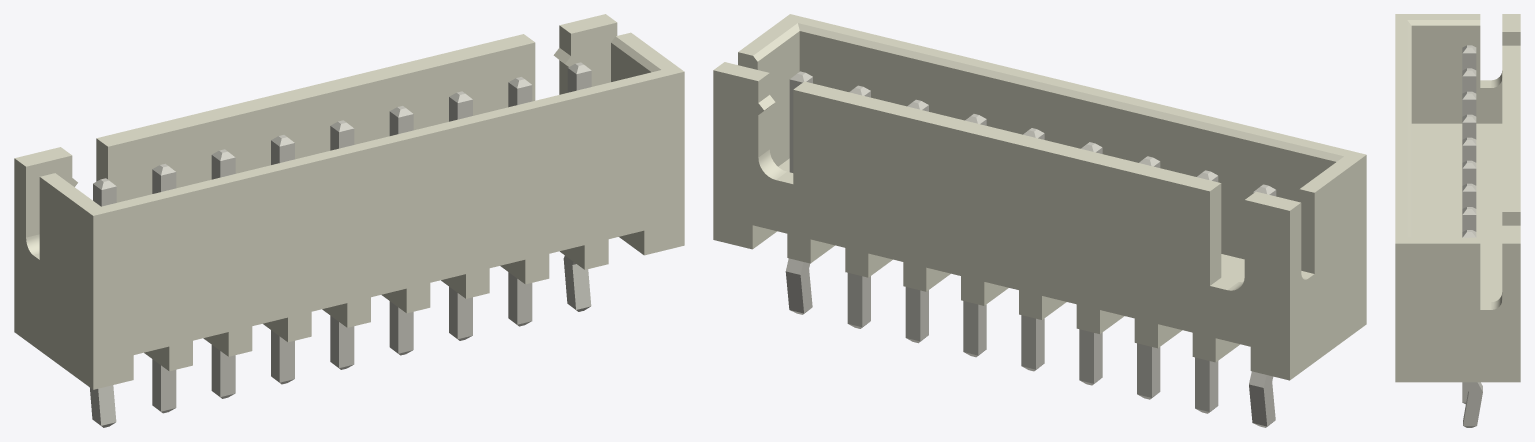
Rendered from kc-jst_xh_b9b-xh-a_1x09_p2.50mm_vertical.glb.
The picture shows the model from 3 angles, left to right: view 1: azimuth 30°, elevation 25°; view 2: azimuth 150°, elevation 25°; view 3: azimuth 270°, elevation 25°; orthographic projection. The views are drawn at different scales.
Parts seen in each view (by area): view 1: 0.75_0.75_0.5833333333333334_0, 0.6666666666666666_0.6666666666666666_0.5833333333333334_0.8; view 2: 0.75_0.75_0.5833333333333334_0, 0.6666666666666666_0.6666666666666666_0.5833333333333334_0.8; view 3: 0.75_0.75_0.5833333333333334_0, 0.6666666666666666_0.6666666666666666_0.5833333333333334_0.8.
Part boxes in pixels (left/top/right/bottom): 0.75_0.75_0.5833333333333334_0: left=14, top=14, right=684, bottom=389; 0.6666666666666666_0.6666666666666666_0.5833333333333334_0.8: left=90, top=62, right=591, bottom=427; 0.75_0.75_0.5833333333333334_0: left=713, top=14, right=1366, bottom=380; 0.6666666666666666_0.6666666666666666_0.5833333333333334_0.8: left=785, top=71, right=1276, bottom=427; 0.75_0.75_0.5833333333333334_0: left=1395, top=14, right=1520, bottom=382; 0.6666666666666666_0.6666666666666666_0.5833333333333334_0.8: left=1462, top=45, right=1482, bottom=427.
Bounding box in the file's own units: 2.49 × 1.04 × 0.5748.
